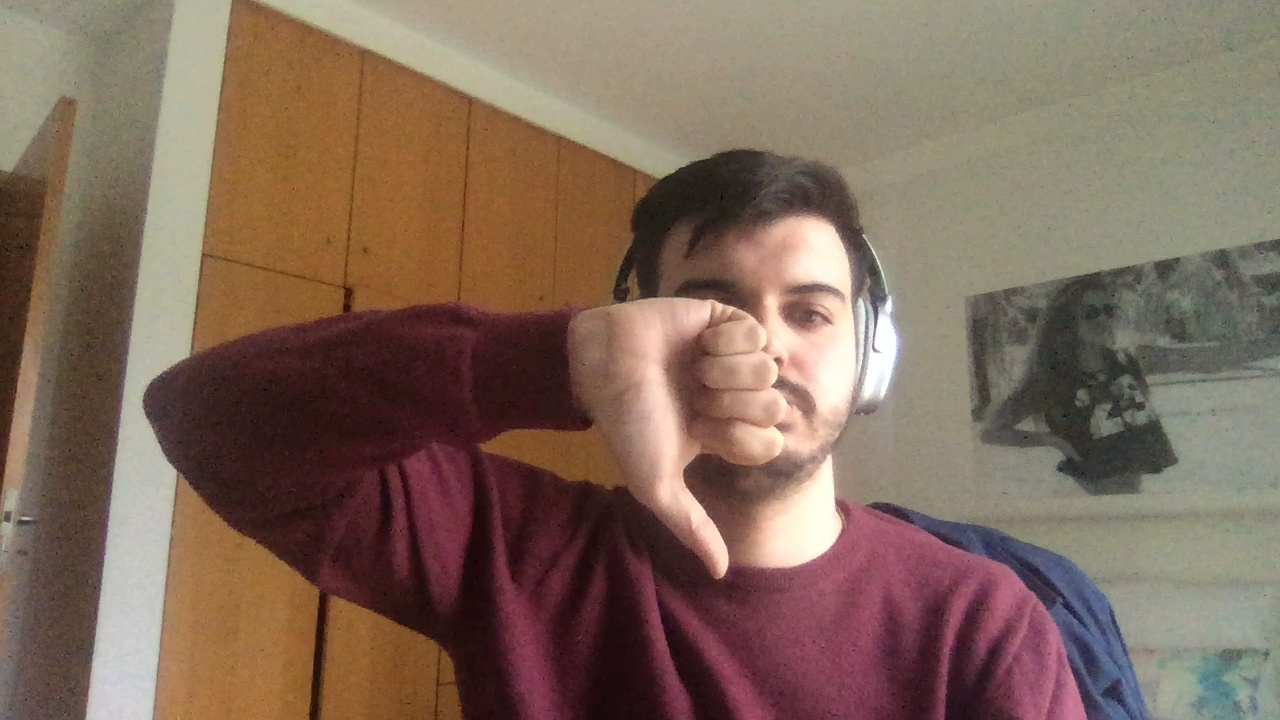ThumbsDown: (578, 297, 791, 579)
